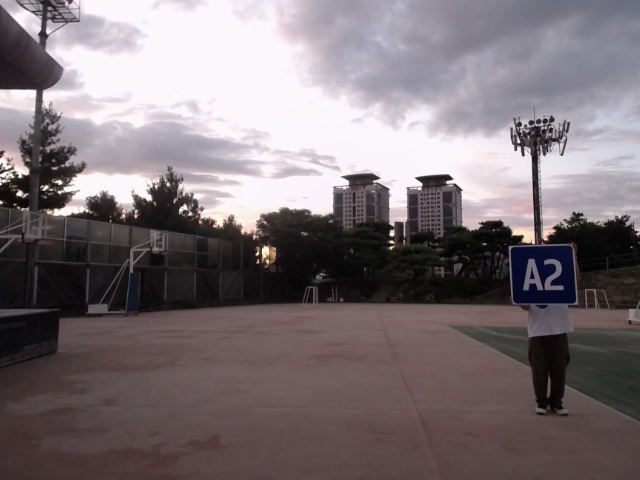delivery_a2: (509, 243, 578, 304)
